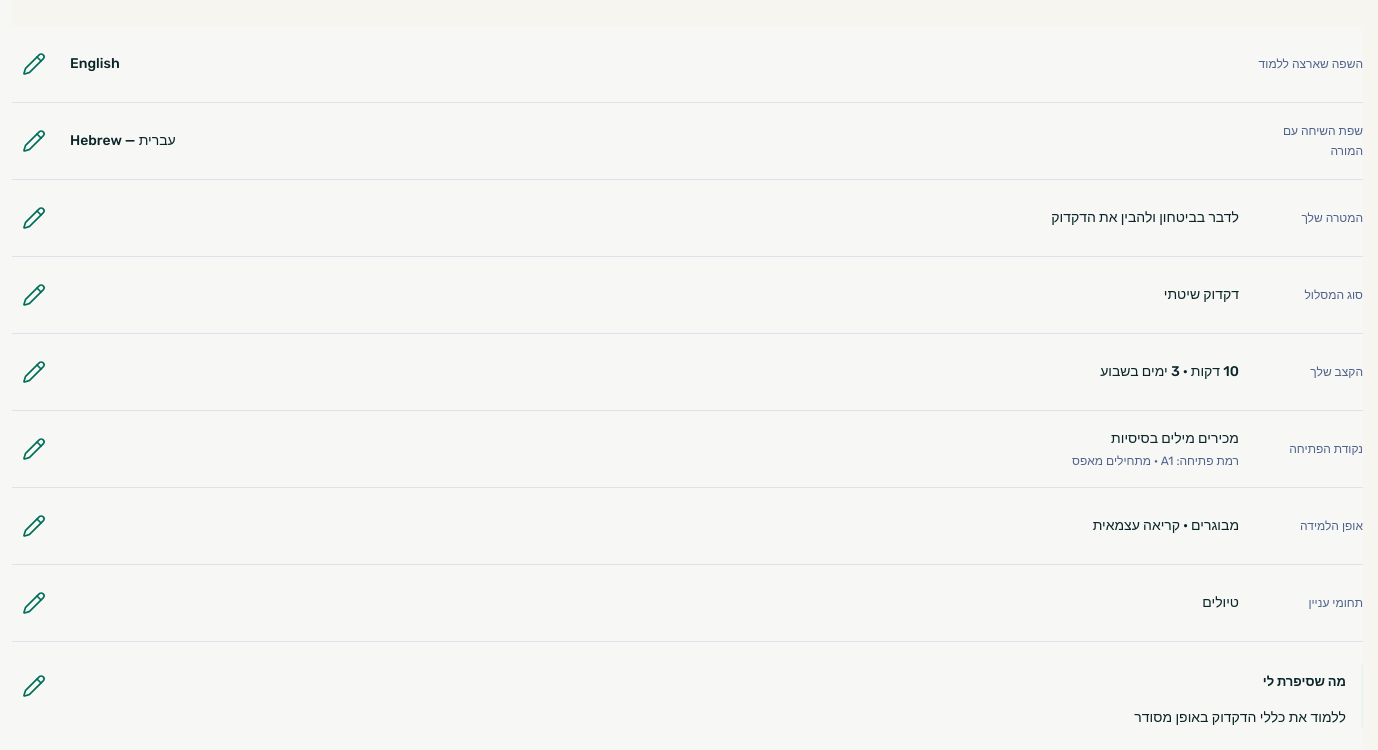
Scenario: inline interview preference review › saves סוג המסלול without replacing other preferences
The width and height of the screenshot is (1378, 750).
Click the button named "עריכת סוג המסלול". click: point(34, 295)
box: [12, 273, 56, 317]
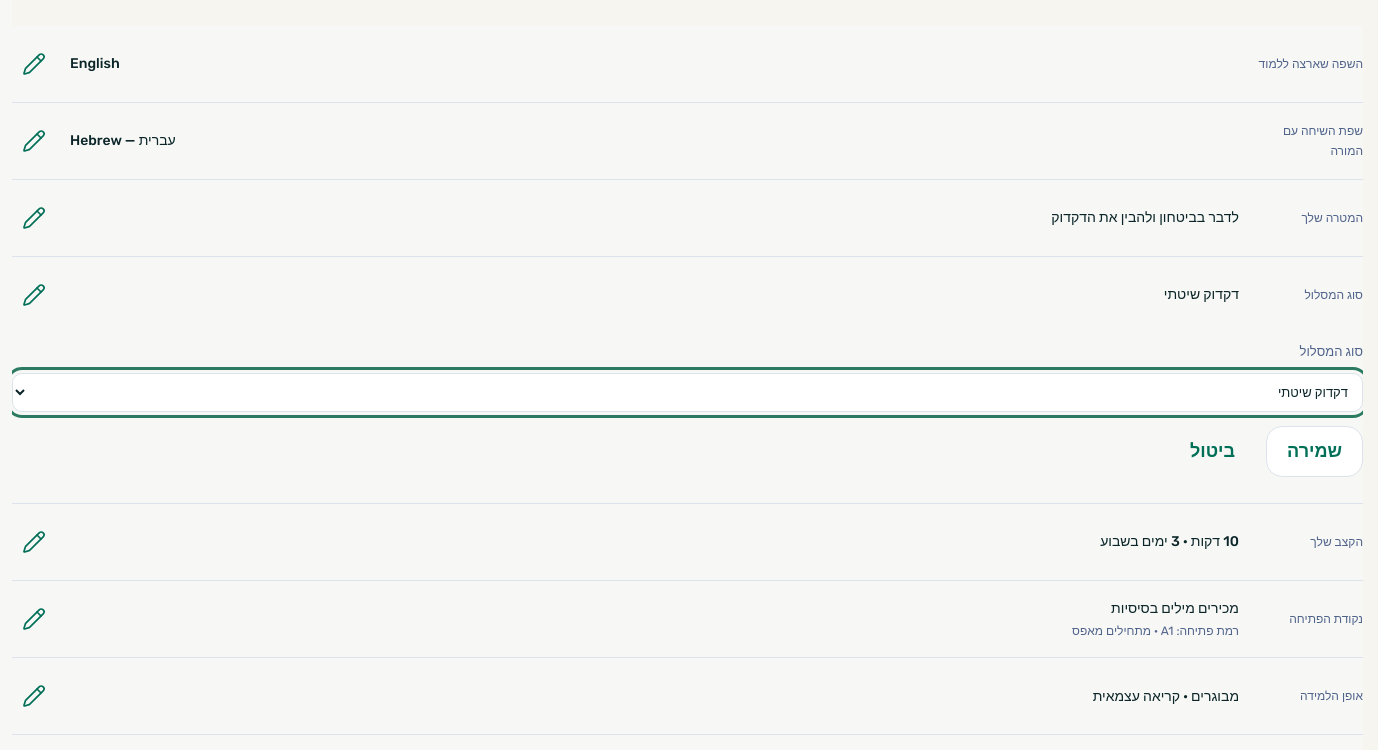
Select "מטרה מעשית" in the dropdown. click: point(688, 393)
box: [12, 373, 1363, 412]
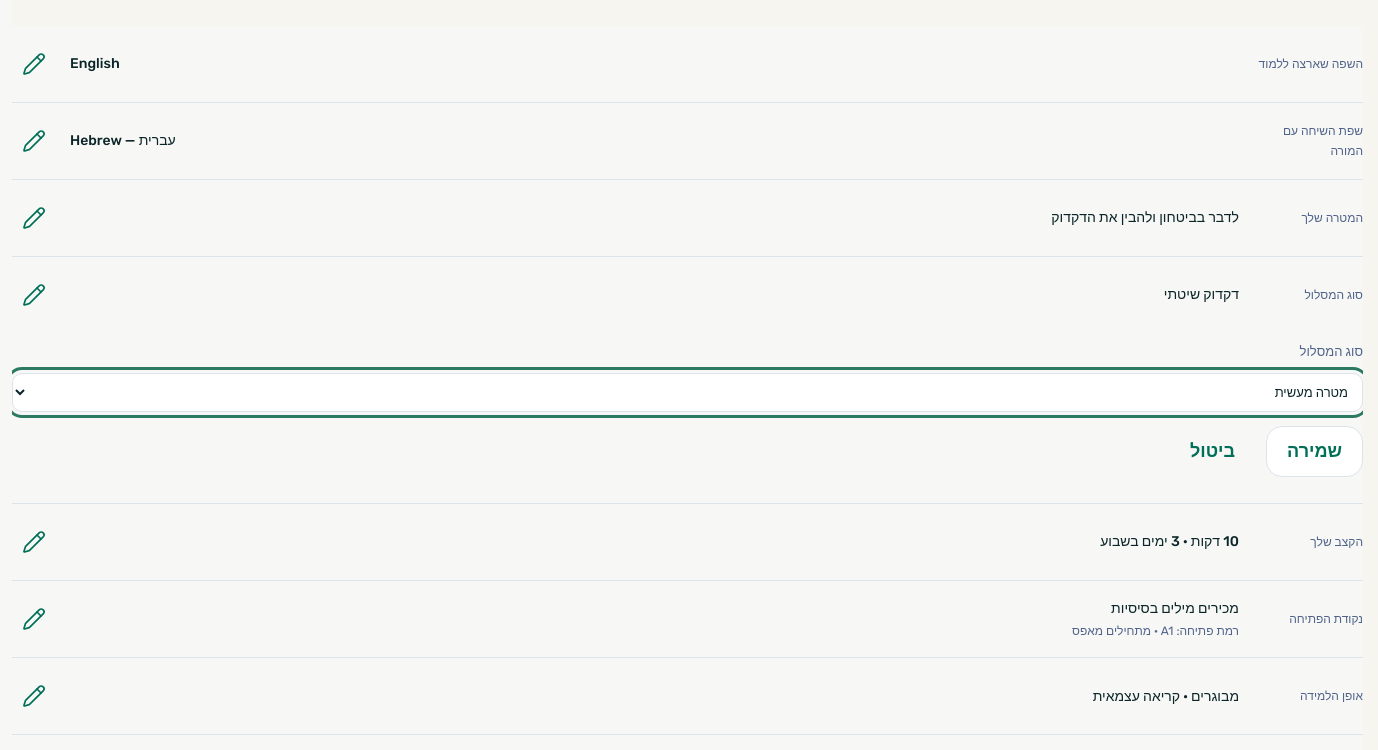
Click the button "שמירה". click: point(1314, 452)
box: [1266, 426, 1363, 477]
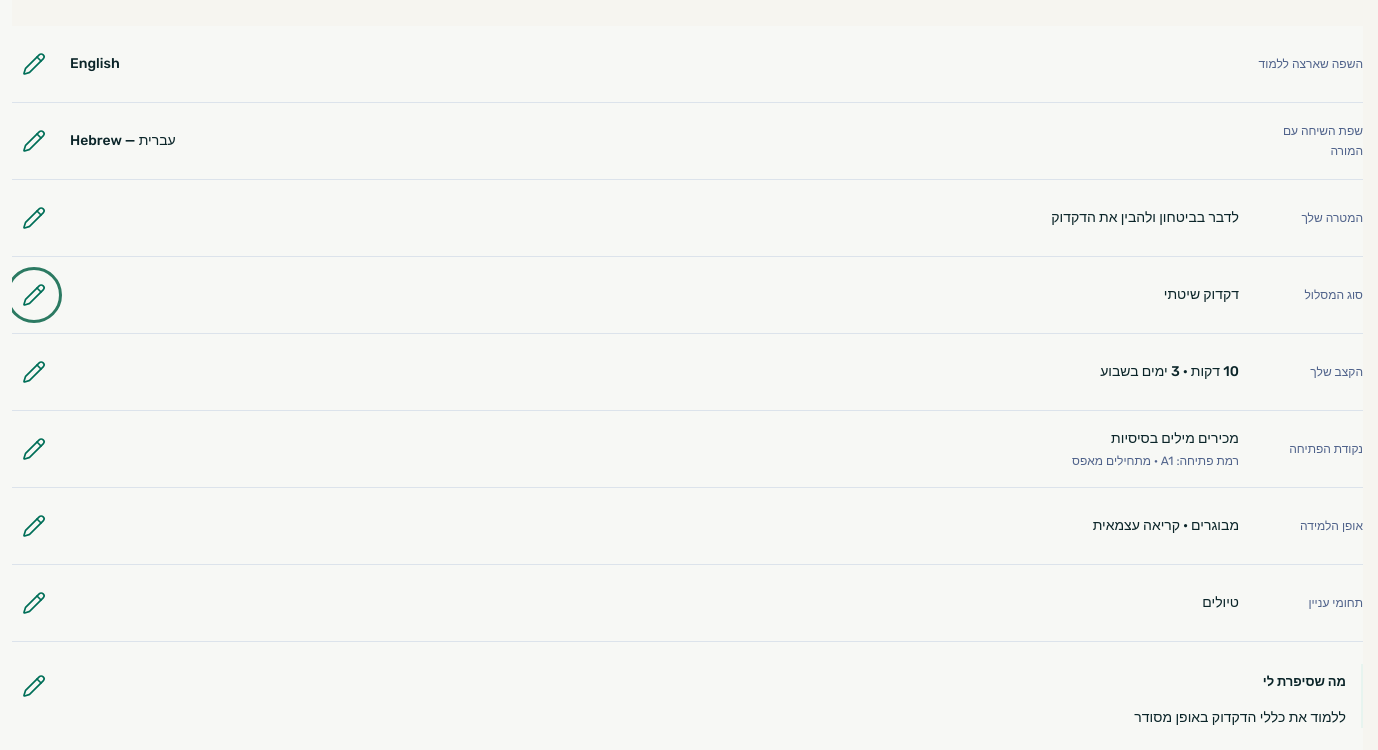
Check: the form is gone
